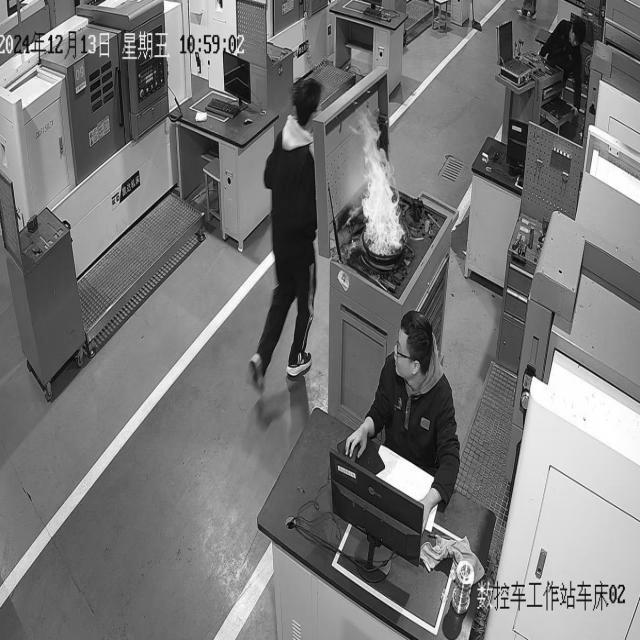smoke: (349, 107, 406, 256)
